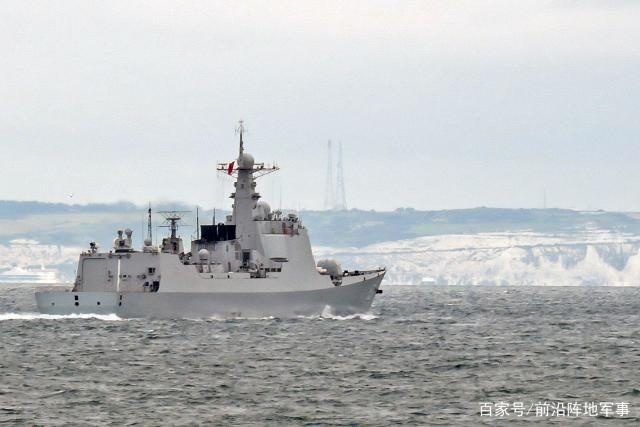warship: (28, 122, 396, 320)
